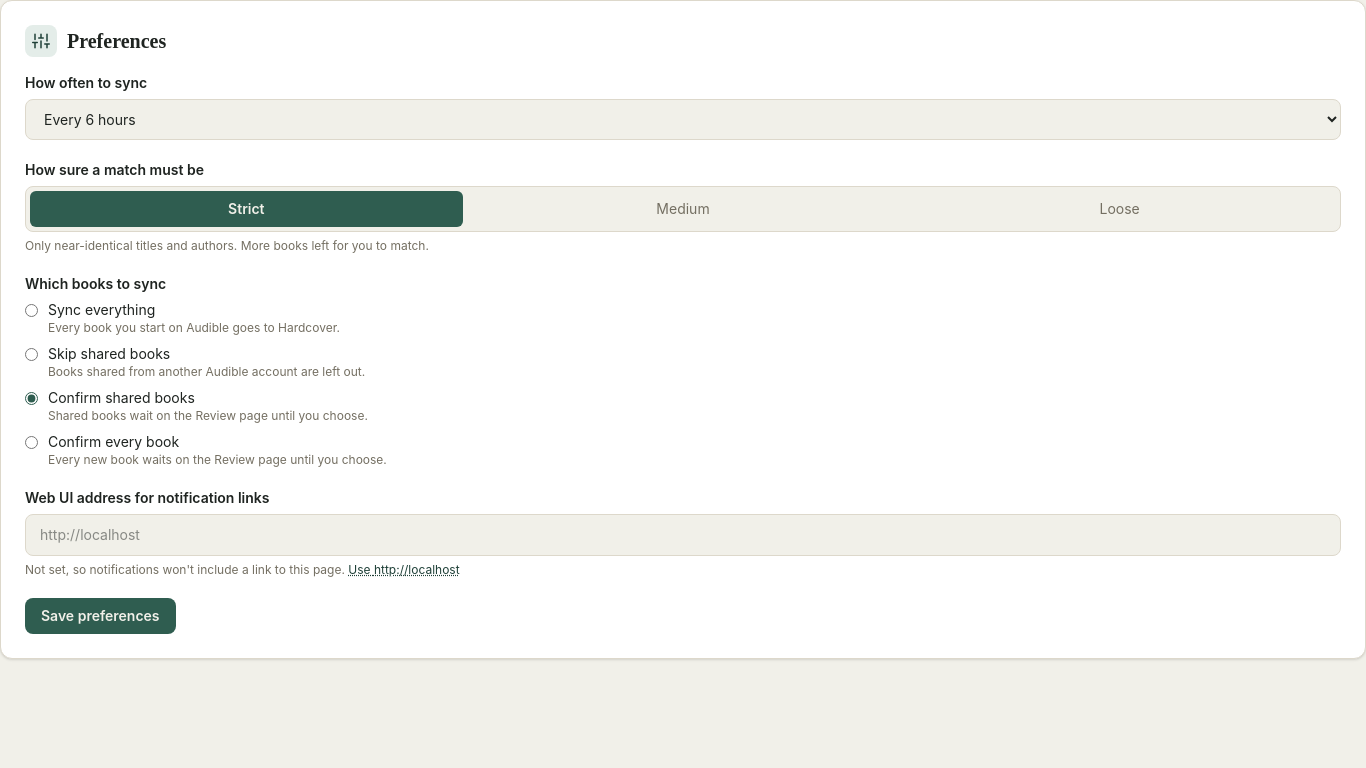
Test case: PreferencesCard › saves changed preferences
Select "Every 30 minutes" in the dropdown at [683, 120], box [25,99,1341,140]
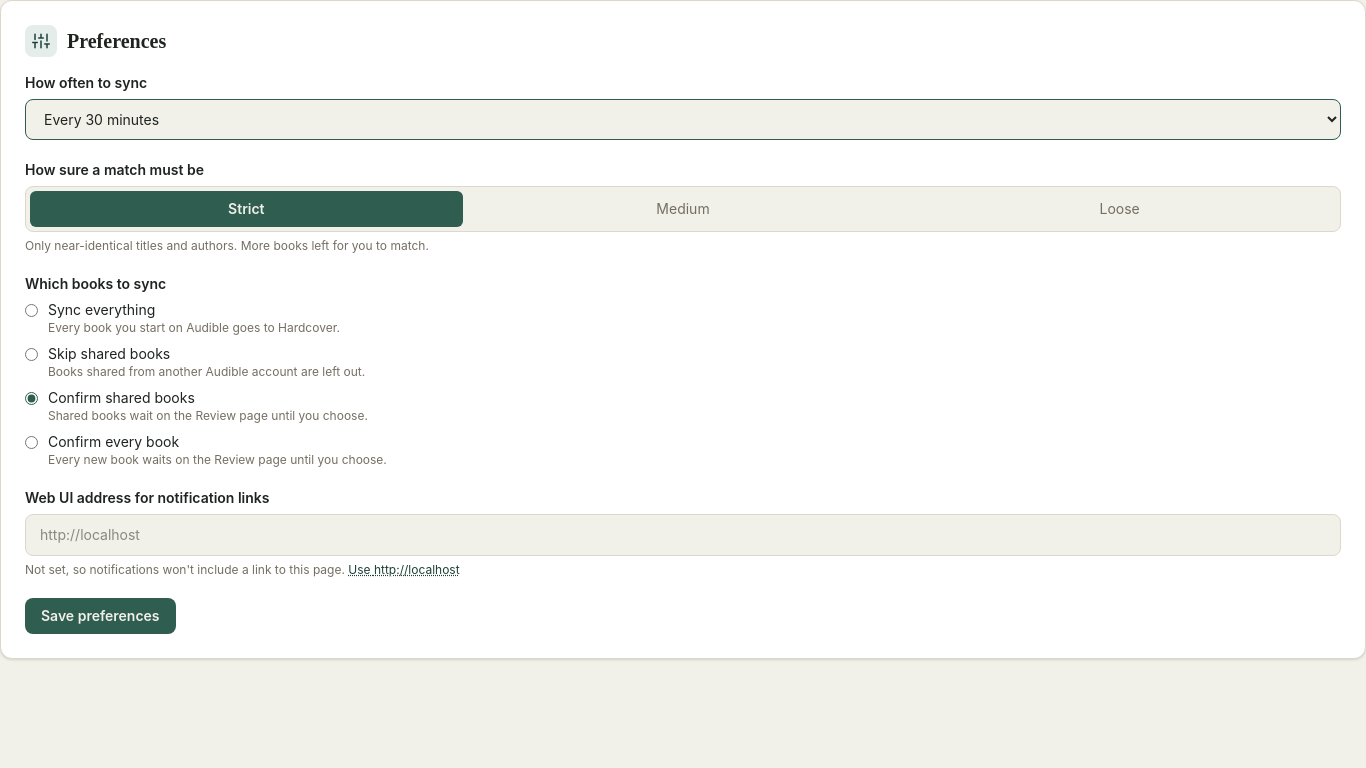
Click the radio button labelled "Medium" at [683, 208], box [656,200,710,217]
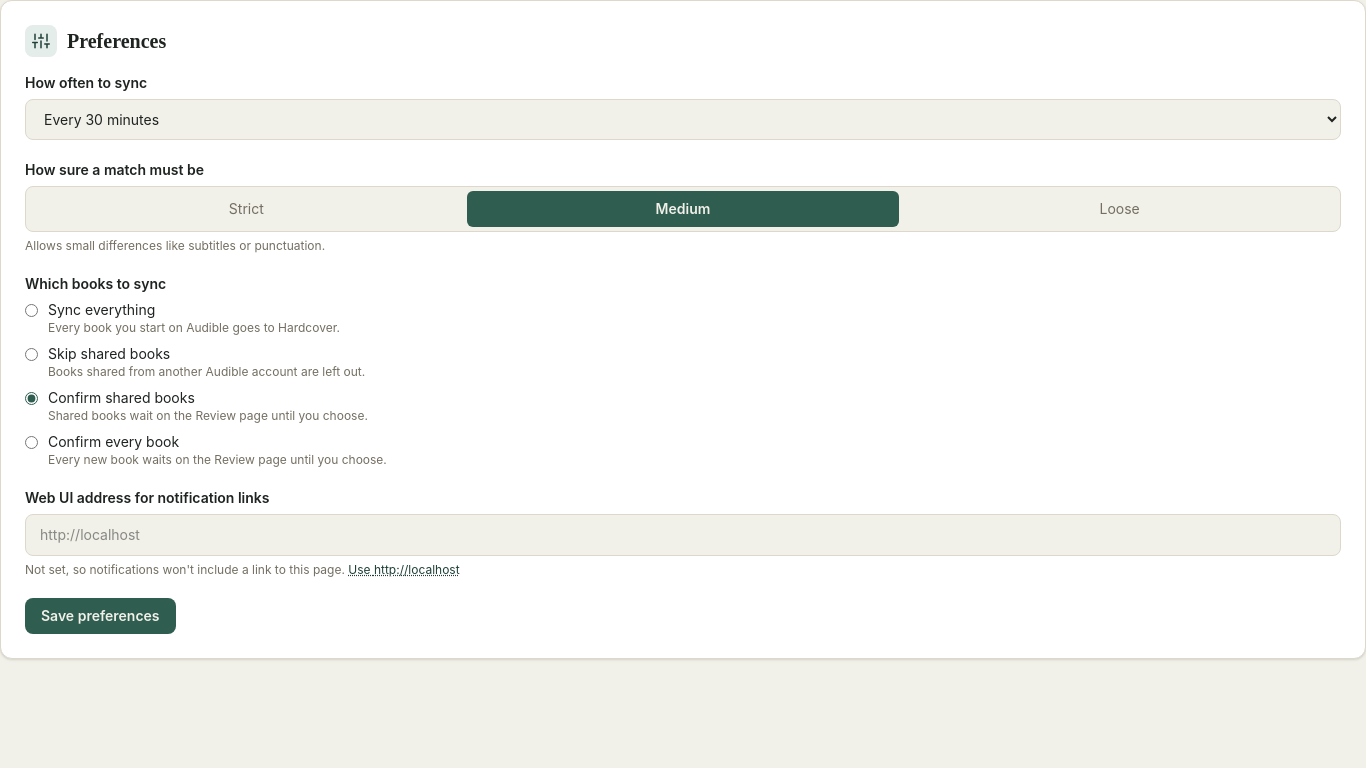
Click the button "Use http://localhost" at [404, 570], box [348,562,460,578]
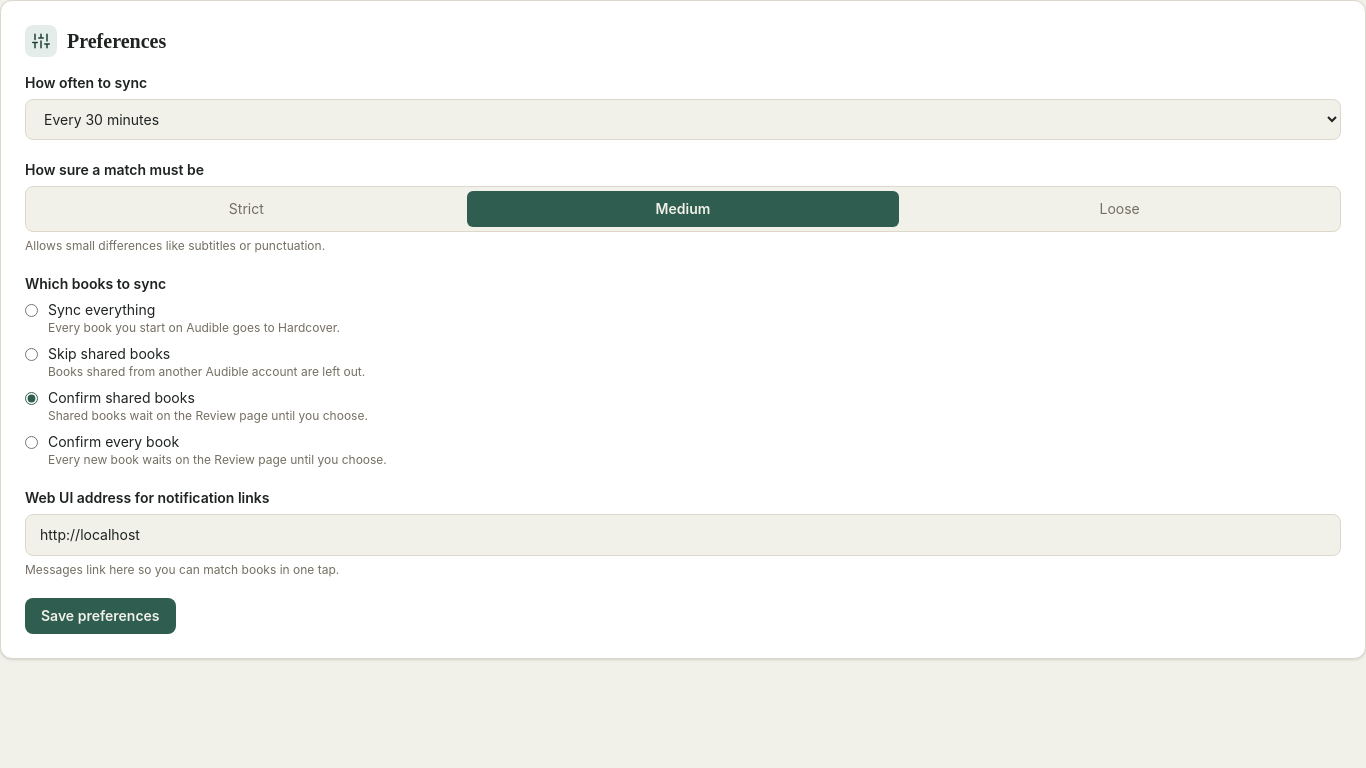
Click the button "Save preferences" at [100, 616], box [25,598,176,634]
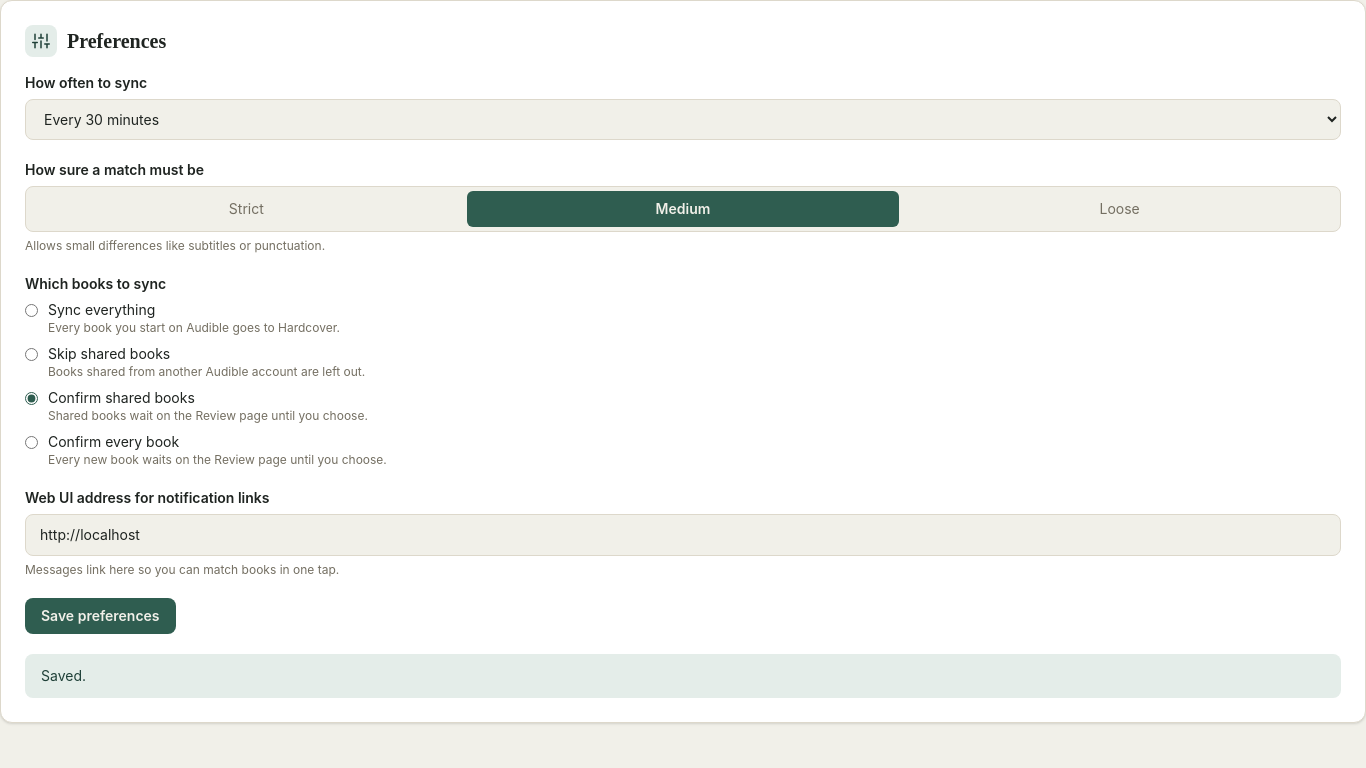
Expected: the text "Saved." is shown, [25,654,1341,698]
